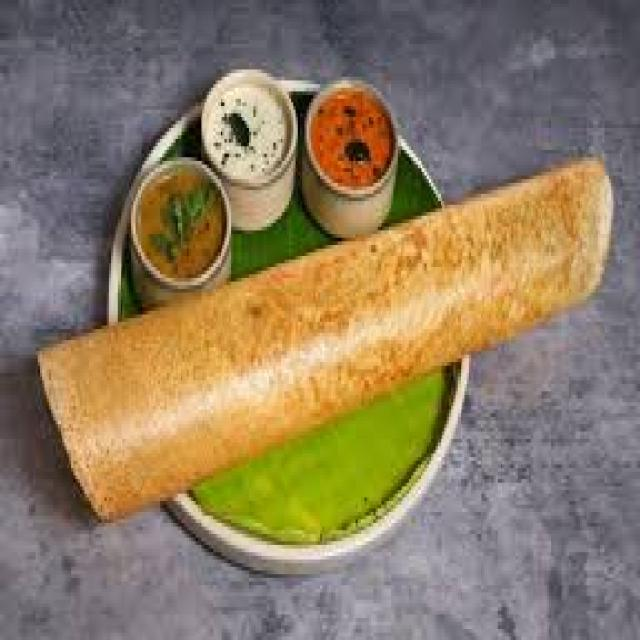DOSA: (36, 150, 609, 512)
